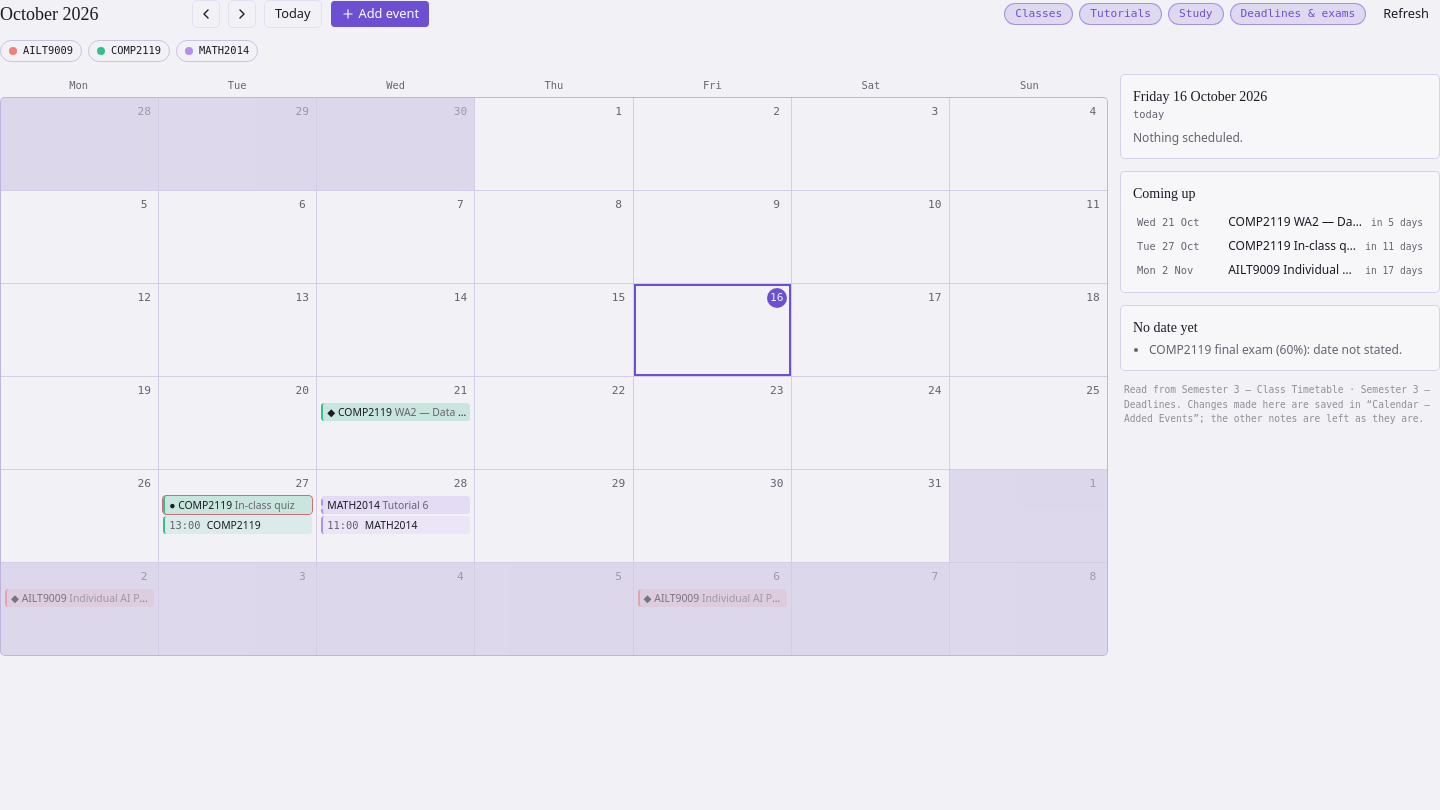
CalendarPanel › editing the calendar › adds an event on the selected day and reloads
Expected: the element with test id "calendar-grid" is shown, [0,97,1108,656]
Expected: the text "Read from" is shown, [1124,384,1182,395]
Click the button with test id "add-event".
click(380, 14)  # box [330,0,430,28]
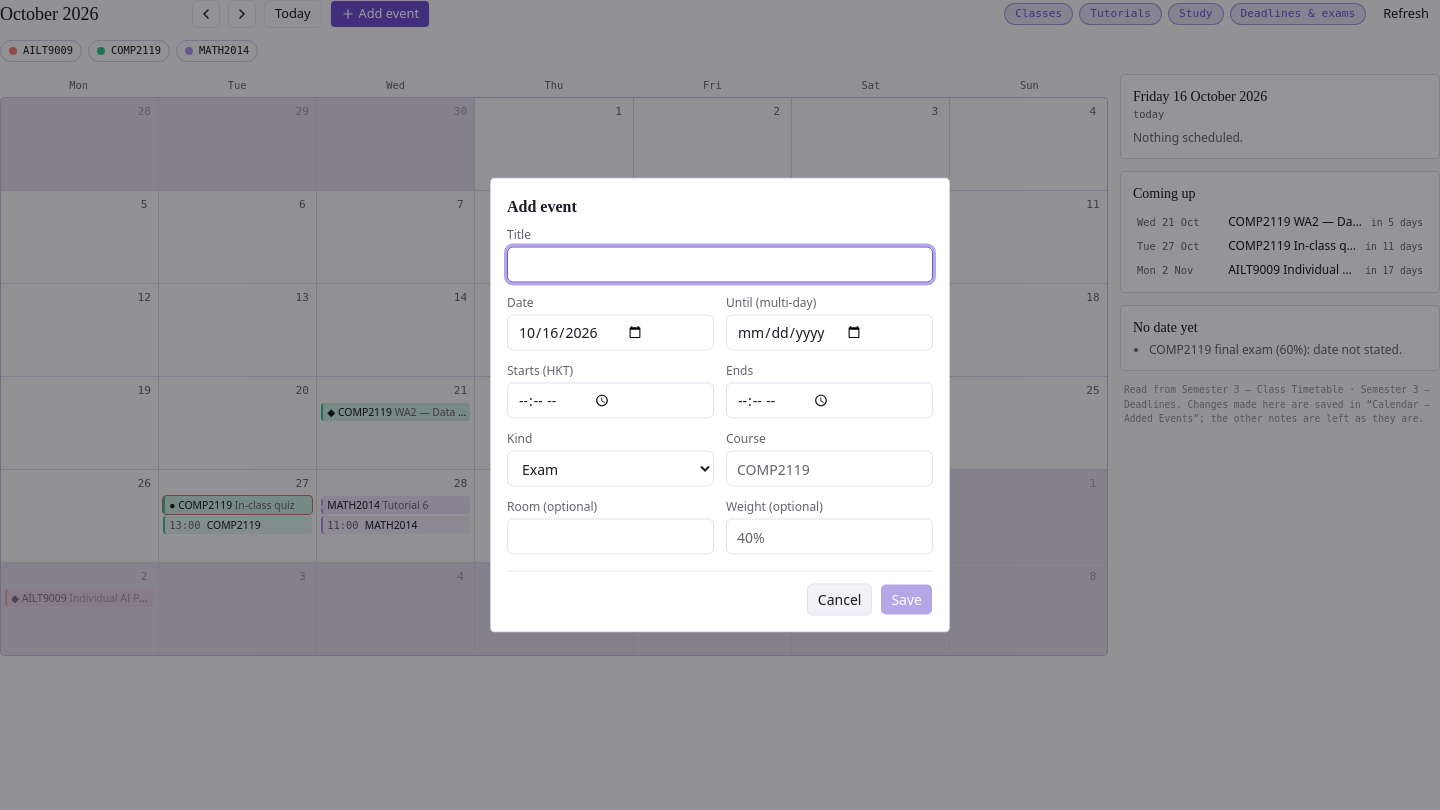
Result: the date field labelled "Date" holds "2026-10-16" at [507,314,714,350]
Type "COMP2119 Final exam" into the field labelled "Title".
click(720, 264); type("COMP2119 Final exam")  # box [507,246,933,282]
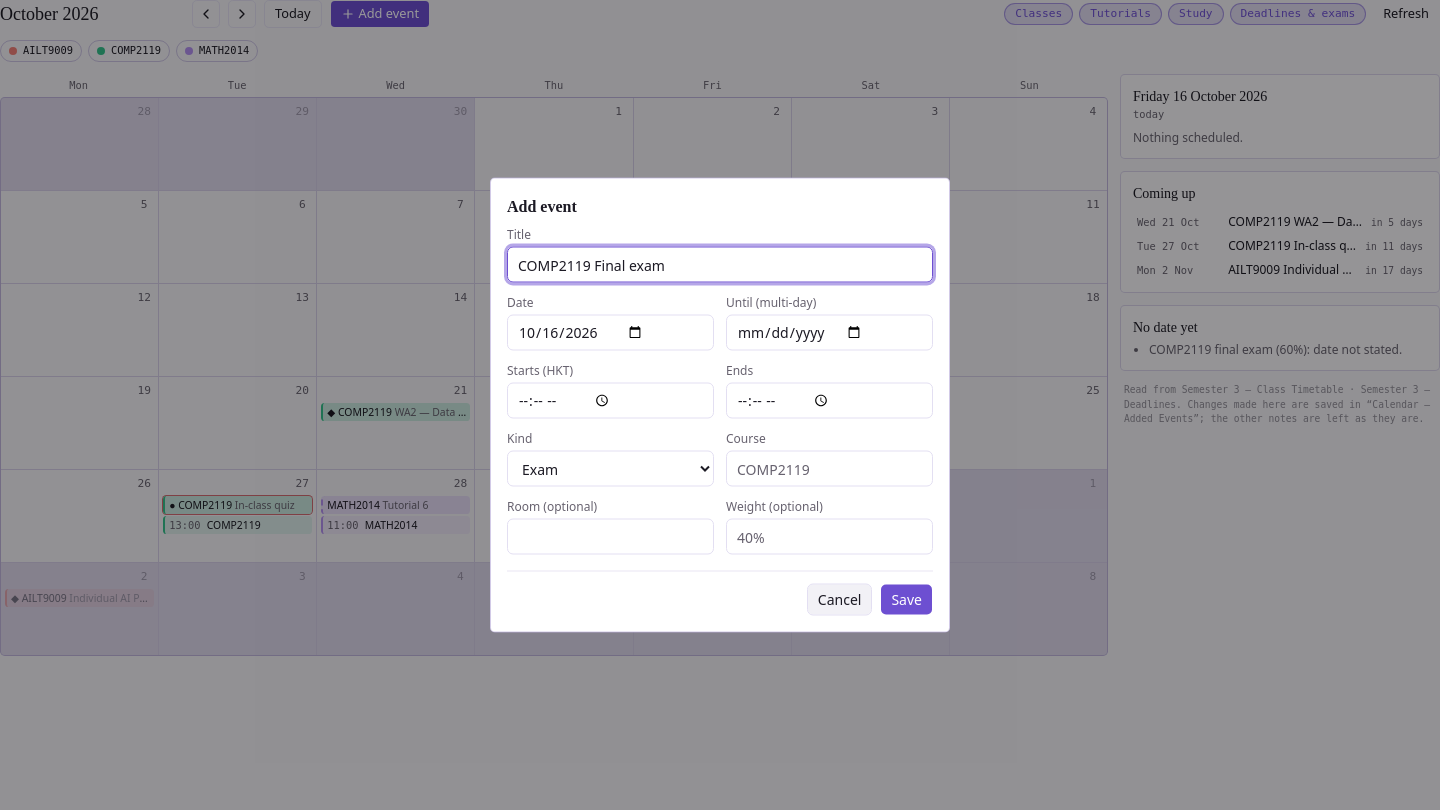
Type "comp2119" into the field labelled "Course".
click(830, 468); type("comp2119")  # box [726,450,933,486]
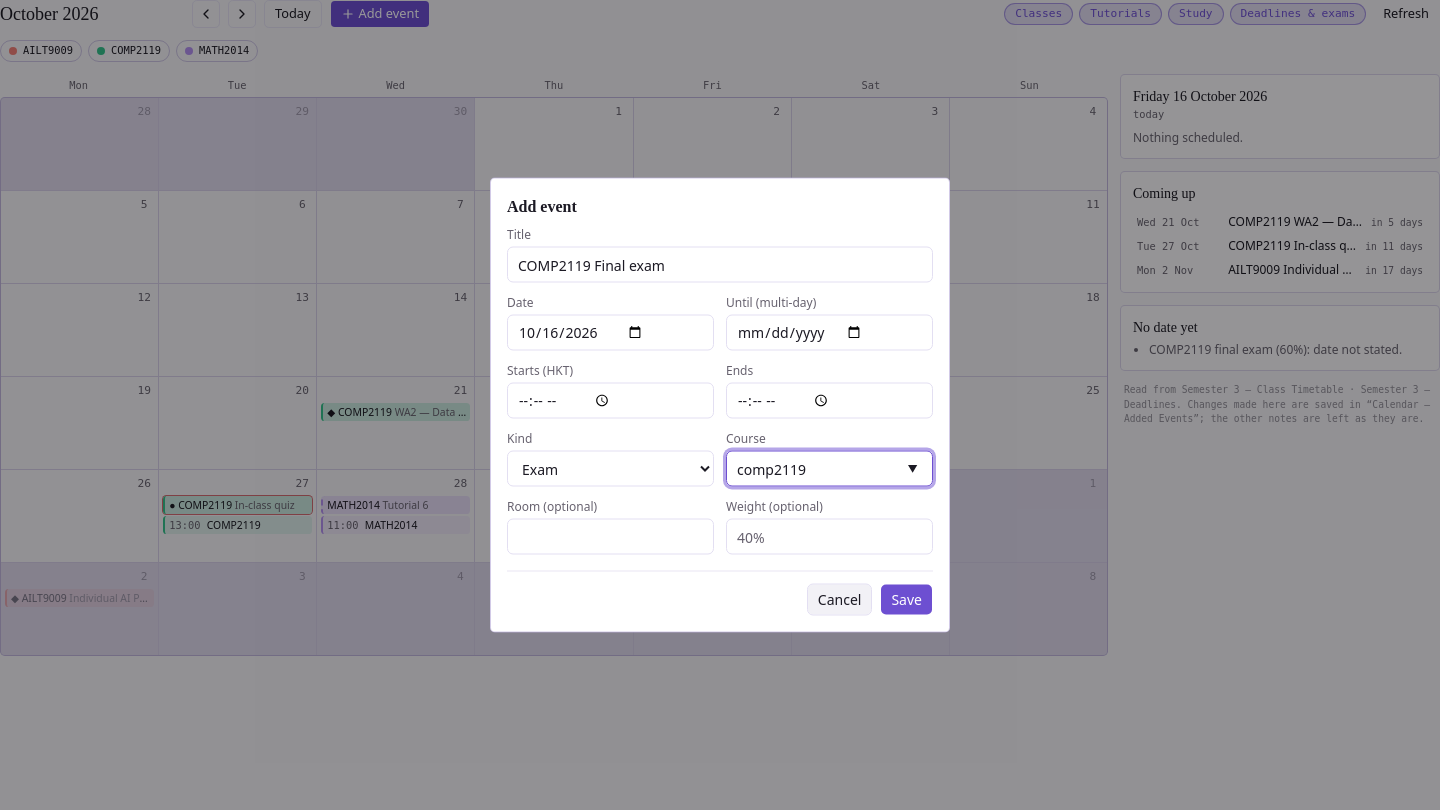
Type "09:30" into the time field labelled "Starts (HKT)".
click(610, 400); type("09:30")  # box [507,382,714,418]
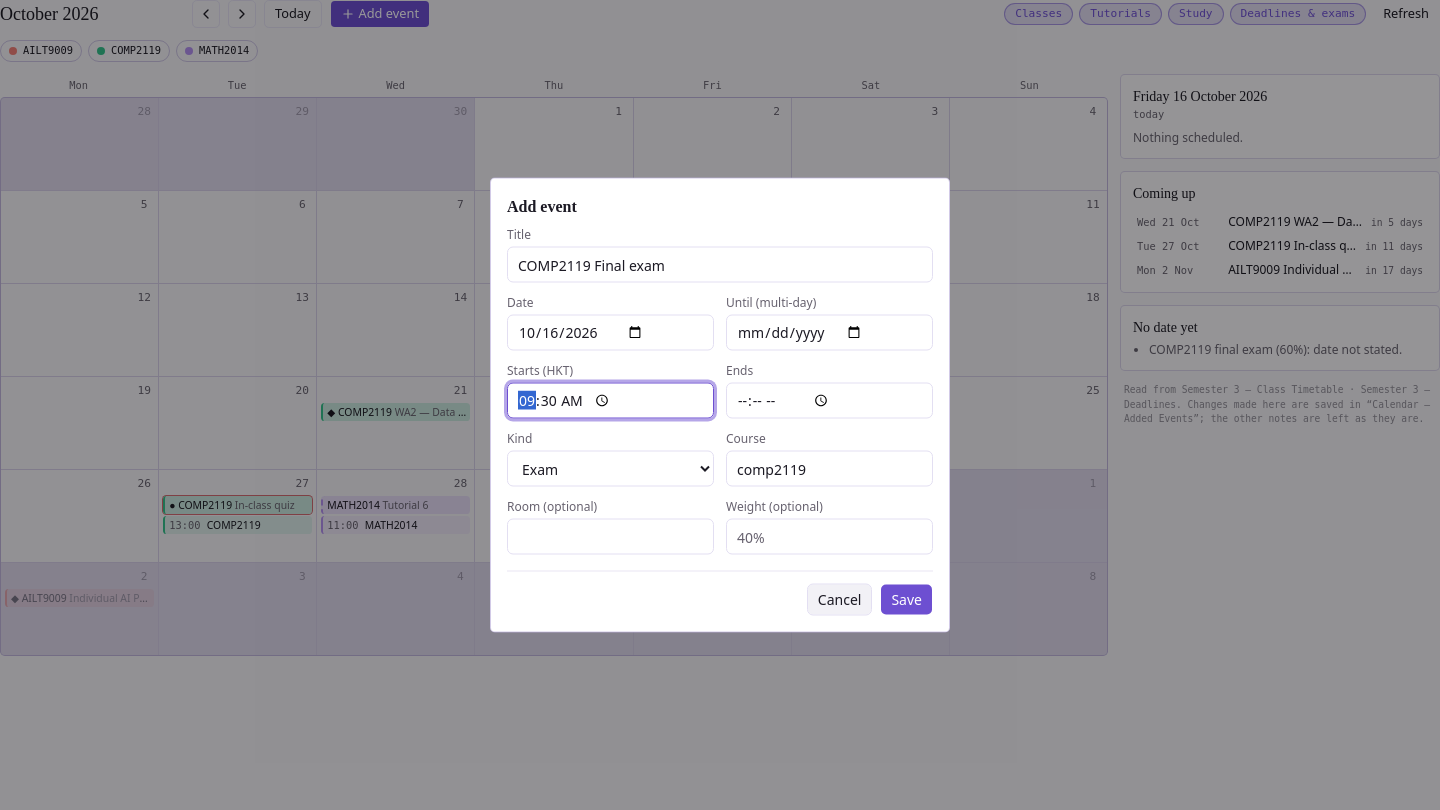
Type "12:30" into the time field labelled "Ends".
click(830, 400); type("12:30")  # box [726,382,933,418]
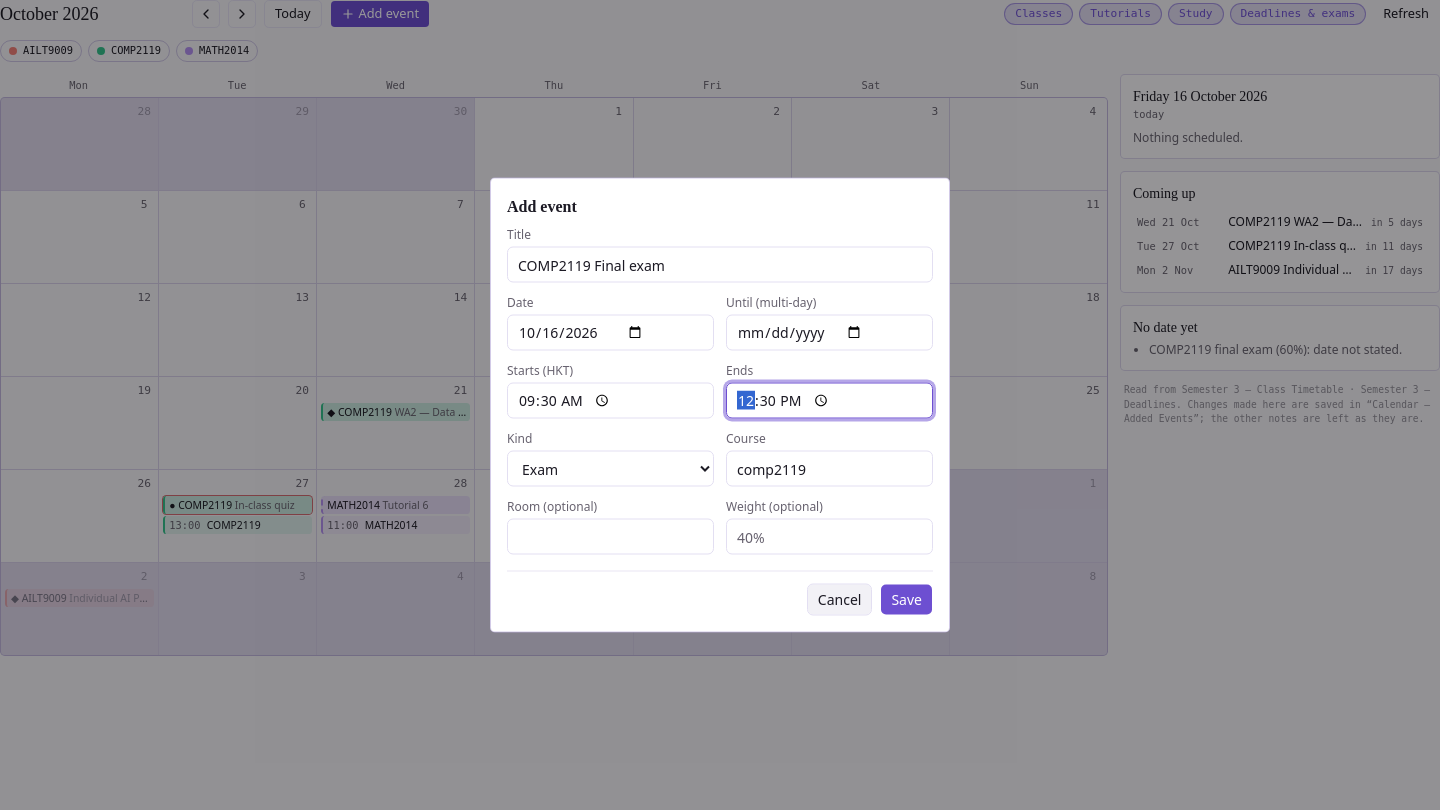
Click the button "Save".
click(907, 600)  # box [880,584,933,616]
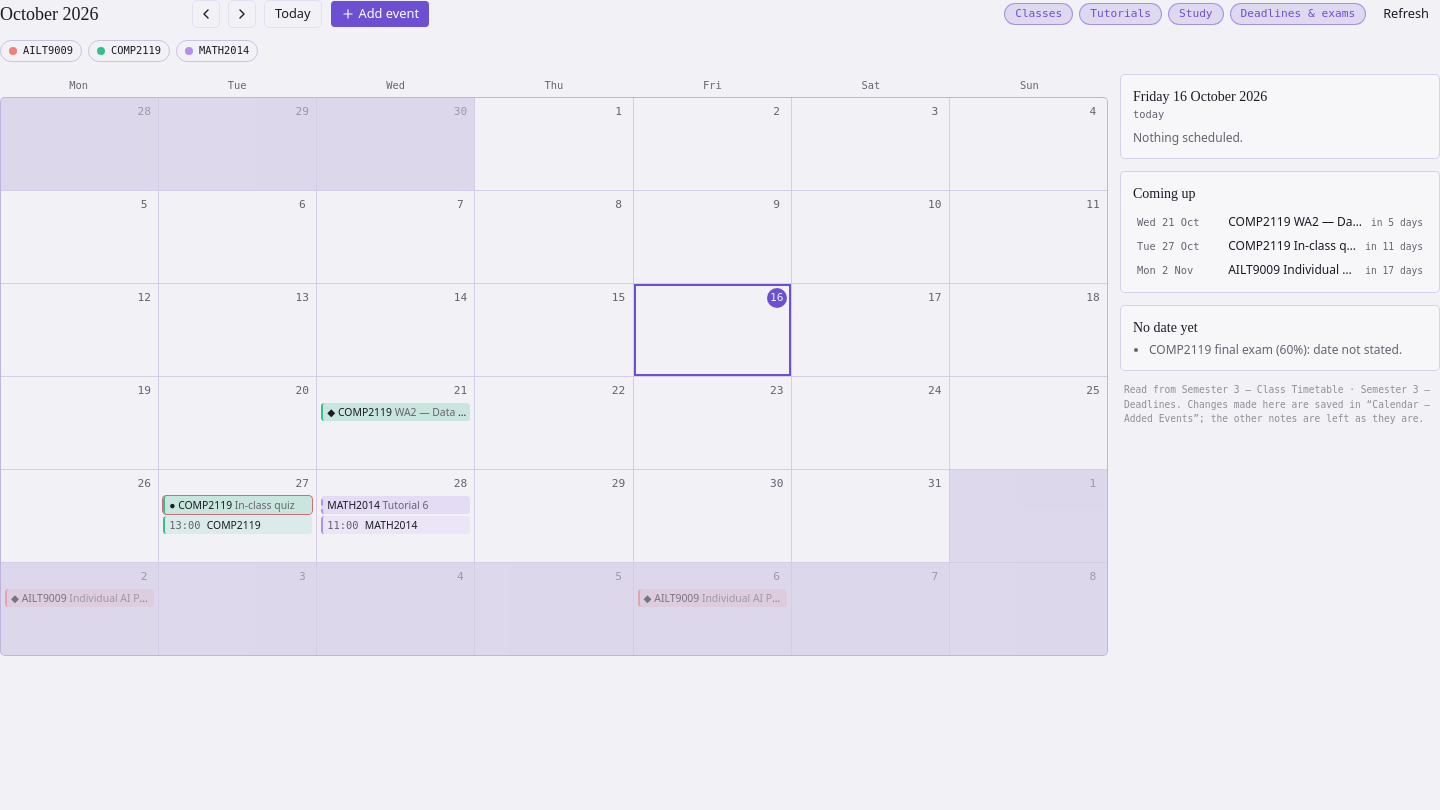
Result: the label labelled "Title" is gone
